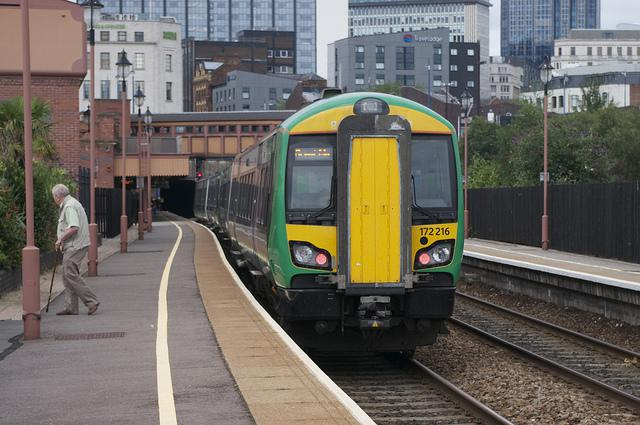Train: (193, 89, 469, 368)
